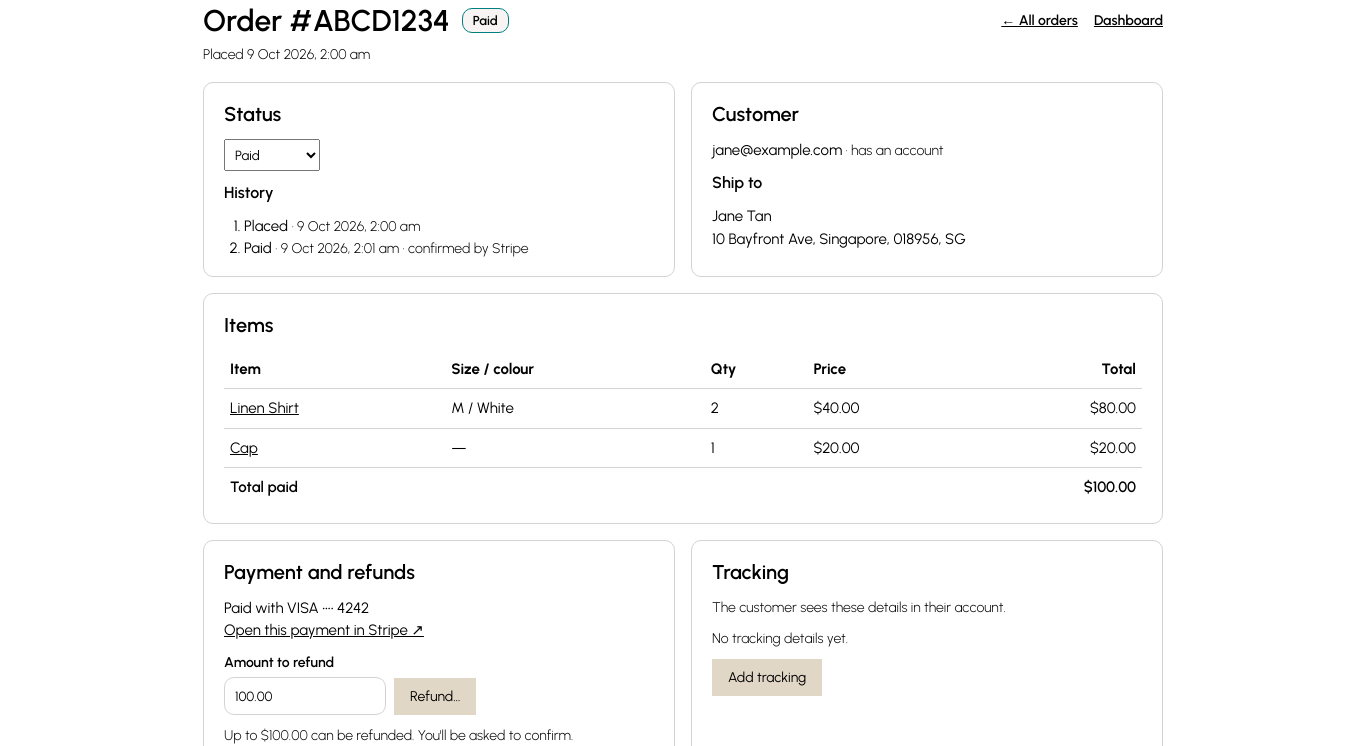
Scenario: AdminOrderDetail › refunds › refuses amounts above what's left, without asking Stripe
This screenshot has width=1366, height=746.
Replace the text in the number field labelled "Amount to refund" with "150". click: coordinates (305, 696)
box: [224,676,386,714]
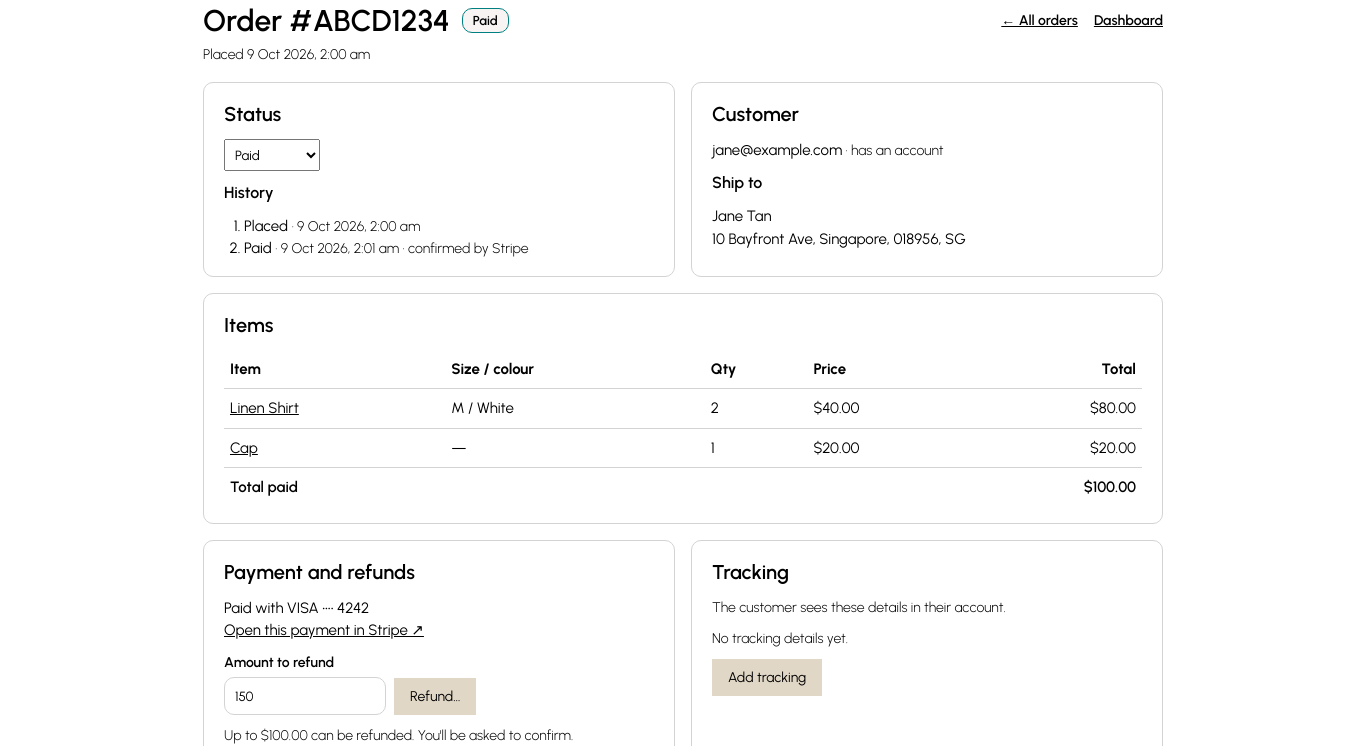
Click the button "Refund…". click: coordinates (435, 696)
box: [394,678,476,714]
(page scrolled)
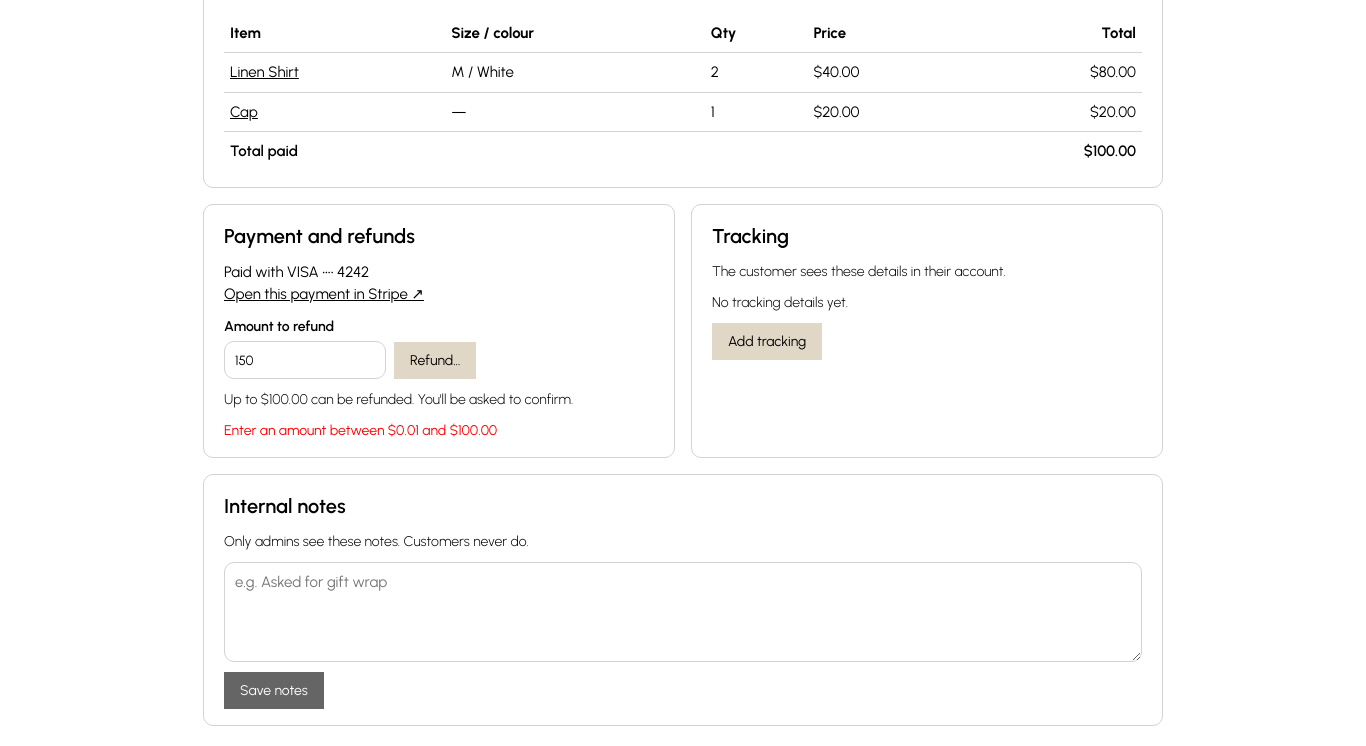
expect the message reads "Enter an amount between $0.01 and $100.00": met, box [224,422,497,438]
